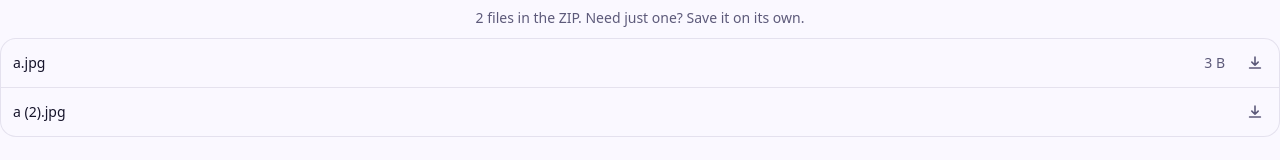
Scenario: ZipContents › saves one file from the ZIP, opening it only once
The image size is (1280, 160).
Later steps or results of the test are not shown.
Check: the text "2 files in the ZIP. Need just one? Save it on its own." is shown, box [476, 8, 804, 27]
Click the button named "Save a (2).jpg": (1255, 112) [1237, 94, 1273, 130]
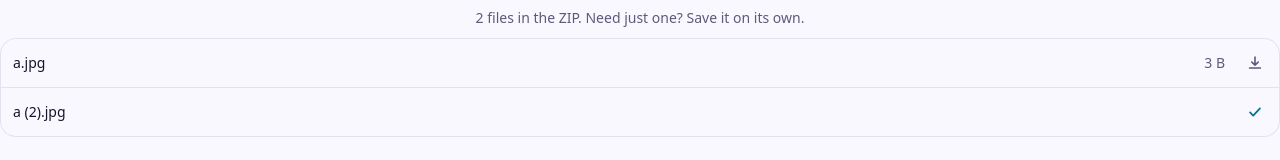
Check: the button named "Save a (2).jpg" has attribute data-state="saved", box [1237, 94, 1273, 130]
